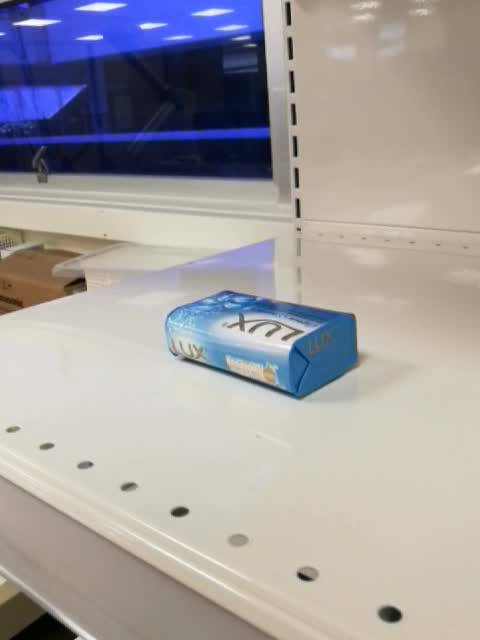soap: (163, 290, 360, 403)
